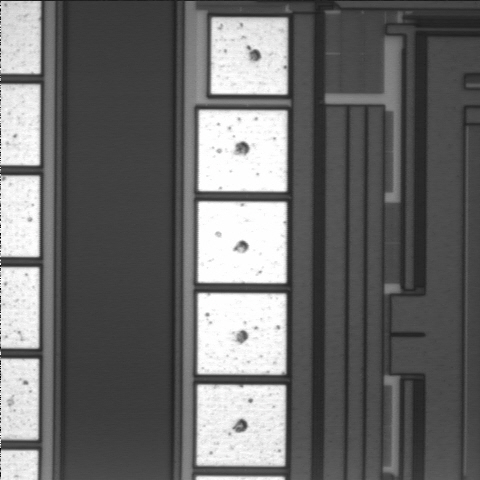pad: (198, 110, 287, 192), (198, 201, 287, 283), (197, 293, 286, 375), (197, 385, 286, 466), (211, 18, 288, 94)
